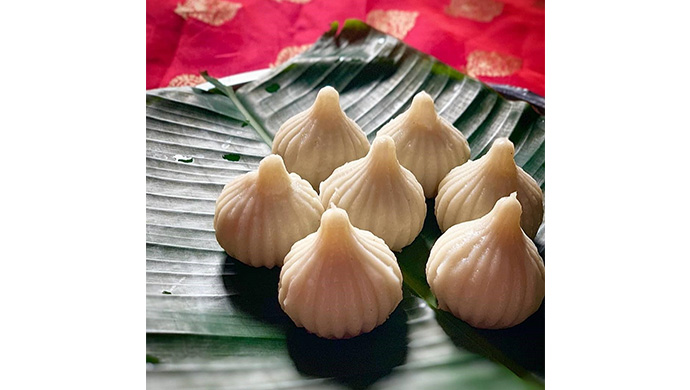modak: (264, 202, 415, 340), (434, 185, 543, 342), (330, 128, 437, 255), (434, 138, 554, 250), (235, 157, 329, 274), (266, 90, 383, 184), (376, 93, 491, 186)
